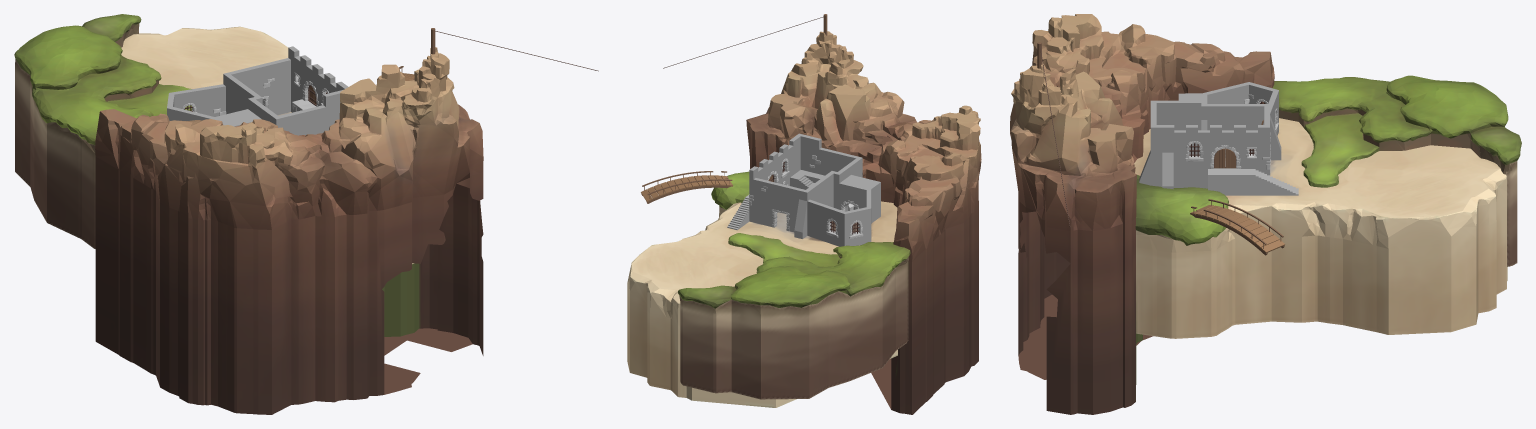
File: Prison.fbx
3 renders of one model, left to right at view 1: azimuth 30°, elevation 25°; view 2: azimuth 150°, elevation 25°; view 3: azimuth 270°, elevation 25°, orthographic. The views are drawn at different scales.
Parts seen in each view (by area): view 1: PrisonGround-Rock, PrisonGround-Sand, PrisonGround-Grass, Prison-Walls.001; view 2: PrisonGround-Rock, PrisonGround-Sand, Prison-Walls.001, PrisonGround-Grass, Bridge, Prison-Stairs; view 3: PrisonGround-Sand, PrisonGround-Rock, PrisonGround-Grass, Prison-Walls.001, Bridge.
Part boxes in pixels (x1,y1,x2,y2): PrisonGround-Rock: (95,23,483,414); PrisonGround-Sand: (15,26,291,248); PrisonGround-Grass: (14,14,191,144); Prison-Walls.001: (167,46,348,135); PrisonGround-Rock: (686,31,981,414); PrisonGround-Sand: (627,201,908,399); Prison-Walls.001: (727,133,880,246); PrisonGround-Grass: (678,171,910,308); Bridge: (641,171,732,203); Prison-Stairs: (790,170,824,189); PrisonGround-Sand: (1134,118,1517,338); PrisonGround-Rock: (1010,14,1509,414); PrisonGround-Grass: (1135,75,1521,245); Prison-Walls.001: (1139,82,1298,195); Bridge: (1190,199,1284,255).
Bounding box in the file's own units: 82.66 × 66.11 × 89.79.
Materials: 2 (2 with a texture image).
